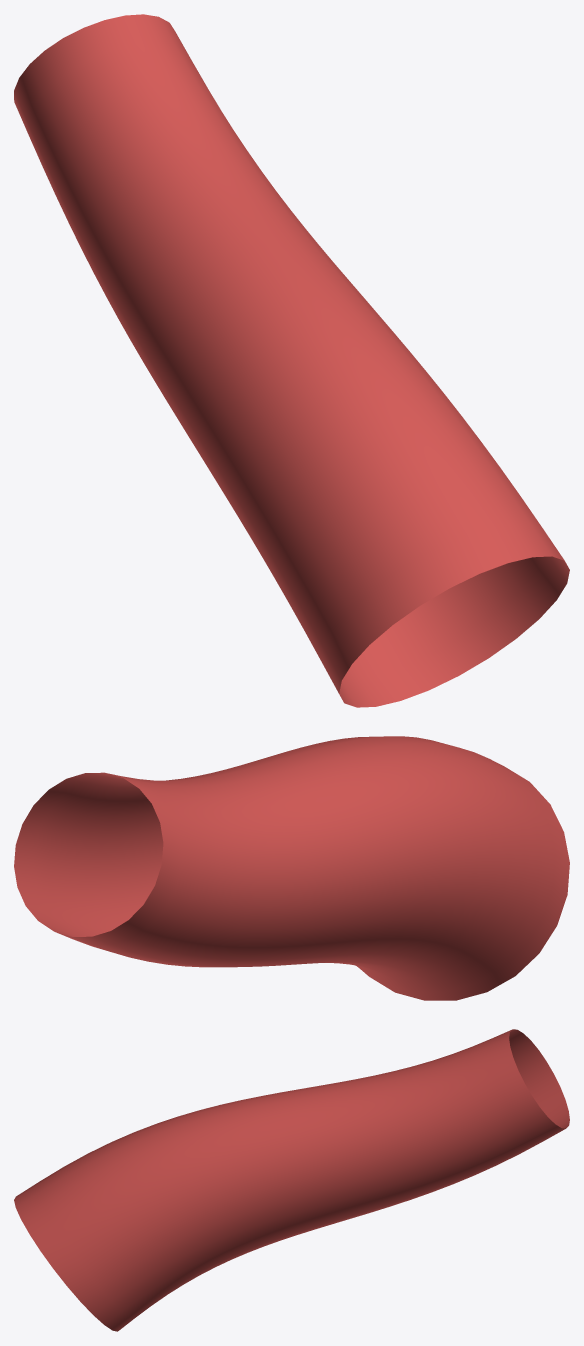
The picture shows the model from 3 angles, top to bottom: view 1: azimuth 30°, elevation 25°; view 2: azimuth 150°, elevation 25°; view 3: azimuth 270°, elevation 25°; orthographic projection. The views are drawn at different scales.
Visible parts, largest first — view 1: 右侧髂内动脉前干; view 2: 右侧髂内动脉前干; view 3: 右侧髂内动脉前干.
Part boxes in pixels (x1,y1,x2,y2): 右侧髂内动脉前干: (14, 14, 569, 707); 右侧髂内动脉前干: (14, 736, 569, 1000); 右侧髂内动脉前干: (14, 1029, 569, 1331).
Size of the model in its own units: 0.00853 by 0.016 by 0.0277.
